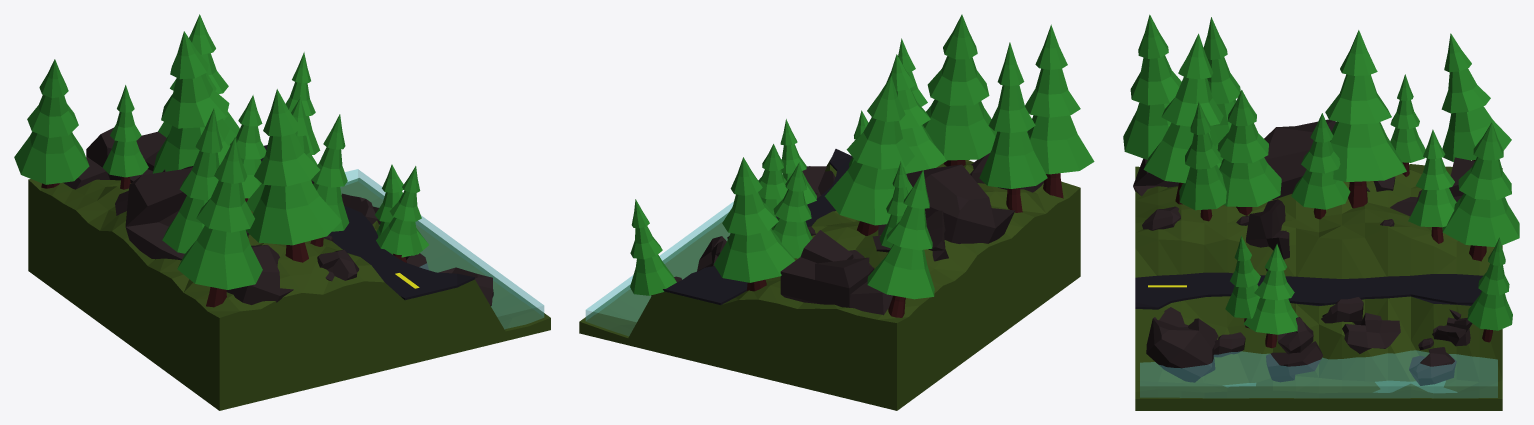
File: dracoForest.glb
The picture shows the model from 3 angles, left to right: view 1: azimuth 30°, elevation 25°; view 2: azimuth 150°, elevation 25°; view 3: azimuth 270°, elevation 25°; orthographic projection. The views are drawn at different scales.
Parts seen in each view (by area): view 1: Terrain, Tree, Tree.010, Tree.002, Tree.005, Water, Rock.014, Road, Tree.011, Tree.003, Tree.009, Tree.012 (+10 smaller); view 2: Terrain, Tree.002, Tree, Tree.010, Rock.001, Tree.006, Tree.011, Tree.005, Rock.014, Water, Road, Tree.001 (+9 smaller); view 3: Terrain, Water, Road, Tree.002, Tree.006, Tree, Tree.001, Tree.010, Tree.005, Rock.004, Tree.009, Tree.008 (+18 smaller).
Part boxes in pixels (x1,y1,x2,y2): Terrain: (28, 178, 550, 410); Tree: (246, 89, 341, 262); Tree.010: (177, 137, 262, 307); Tree.002: (152, 31, 236, 173); Tree.005: (14, 59, 89, 188); Water: (340, 169, 544, 328); Rock.014: (125, 166, 249, 260); Road: (260, 145, 474, 300); Tree.011: (162, 108, 222, 253); Tree.003: (102, 85, 148, 189); Tree.009: (310, 114, 349, 246); Tree.012: (376, 166, 422, 259); Terrain: (579, 157, 1080, 410); Tree.002: (824, 76, 914, 235); Tree: (923, 14, 997, 166); Tree.010: (1025, 24, 1094, 198); Rock.001: (780, 230, 892, 315); Tree.006: (714, 157, 795, 291); Tree.011: (979, 42, 1047, 212); Tree.005: (867, 170, 934, 317); Rock.014: (906, 164, 1015, 243); Water: (585, 201, 733, 335); Road: (663, 149, 852, 305); Tree.001: (886, 54, 947, 173); Terrain: (1135, 164, 1502, 410); Water: (1140, 350, 1497, 397); Road: (1135, 272, 1482, 309); Tree.002: (1325, 30, 1406, 208); Tree.006: (1442, 122, 1519, 261); Tree: (1143, 33, 1223, 204); Tree.001: (1217, 90, 1281, 215); Tree.010: (1123, 14, 1181, 159); Tree.005: (1441, 33, 1511, 161); Rock.004: (1146, 307, 1218, 382); Tree.009: (1179, 101, 1226, 221); Tree.008: (1291, 113, 1350, 219).
Bounding box in the file's own units: 8.55 × 6.38 × 8.64.
